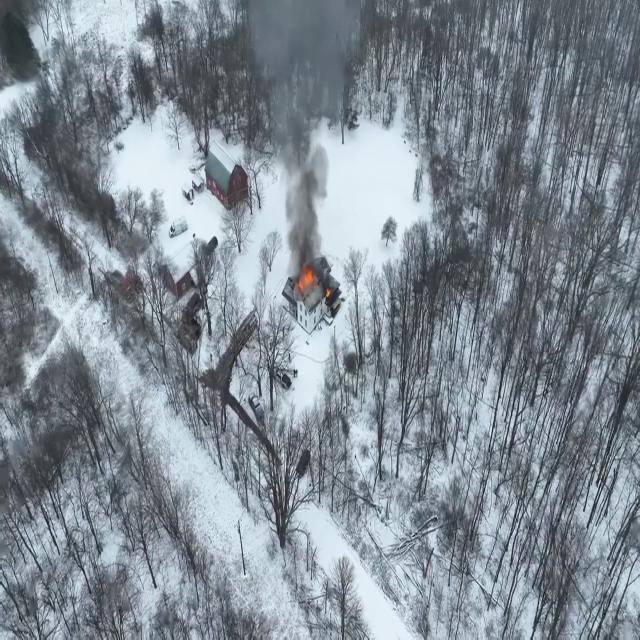Fire: (296, 258, 317, 298)
Smoke: (254, 1, 352, 259)
